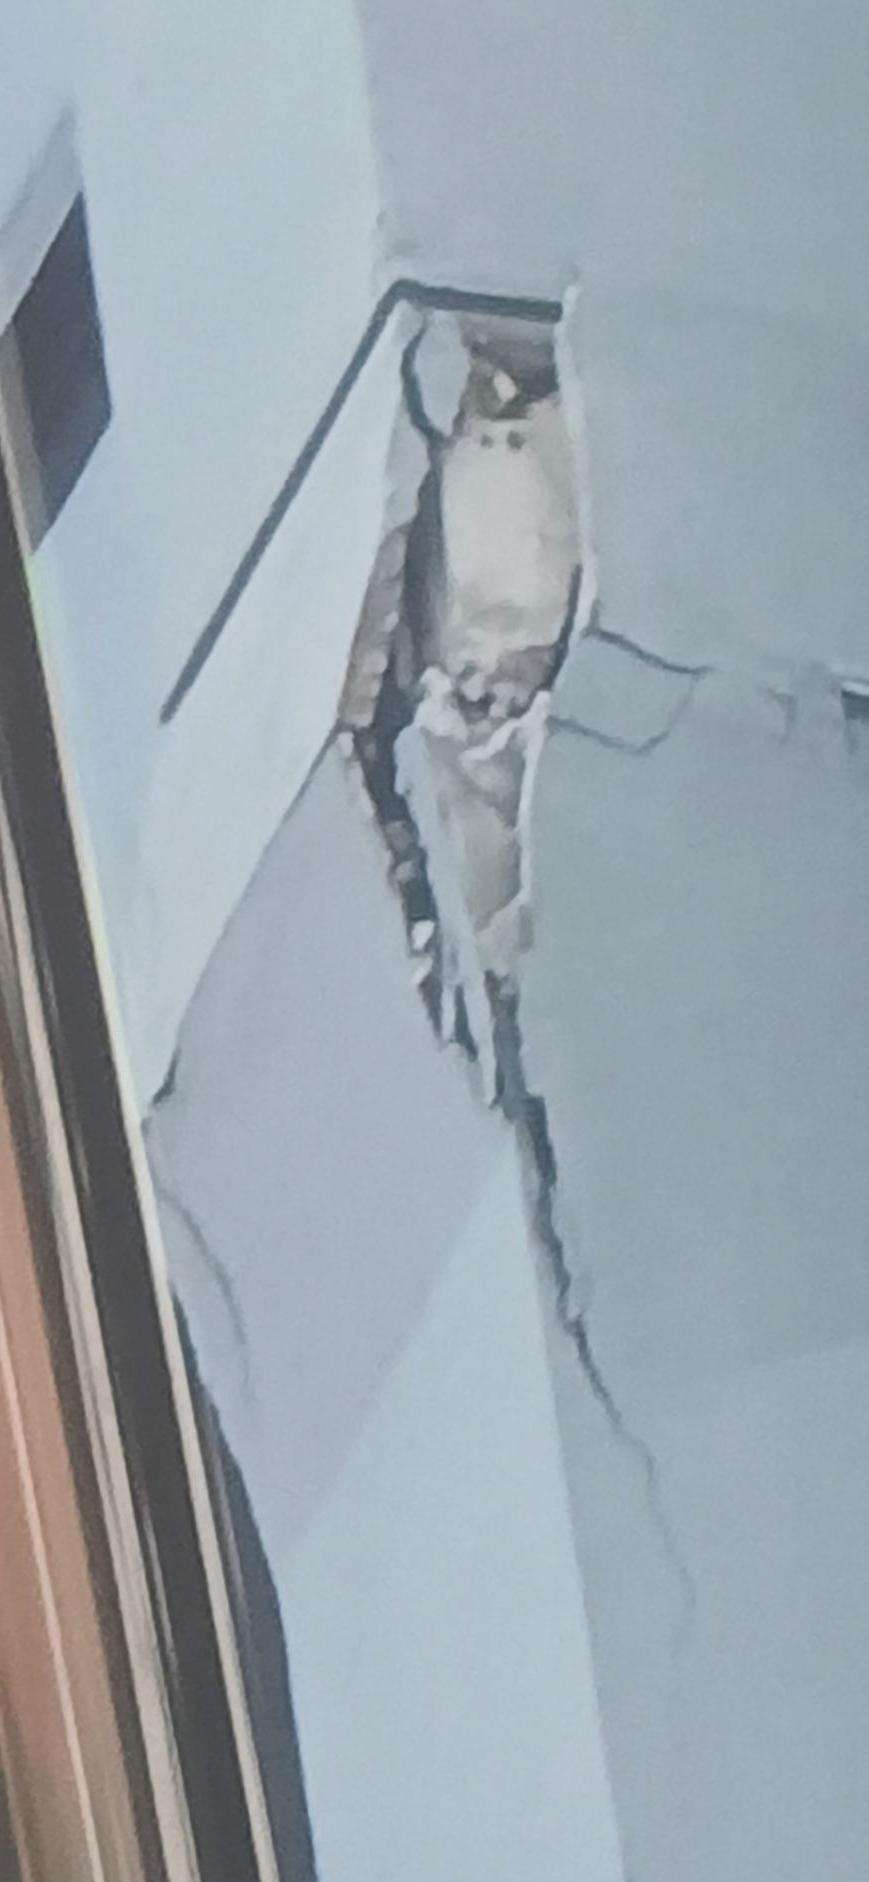High: (331, 248, 863, 1562)
